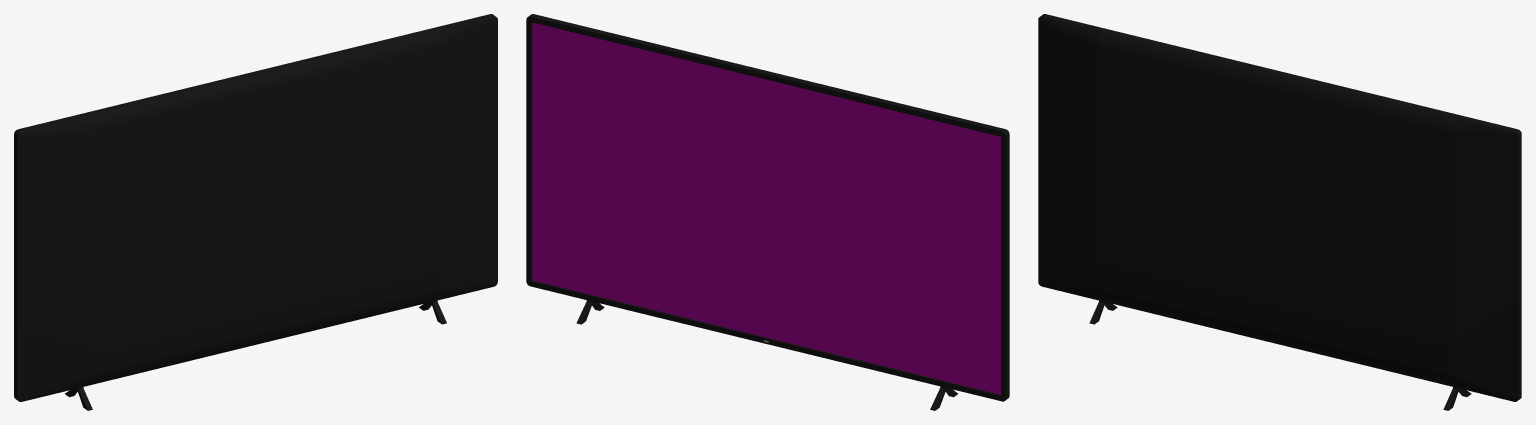
3 views of the same model, side by side, from view 1: azimuth 30°, elevation 25°; view 2: azimuth 150°, elevation 25°; view 3: azimuth 330°, elevation 25° (orthographic).
Visible parts, largest first — view 1: pPlane5; view 2: pPlane5; view 3: pPlane5.
Boxes of the visible parts, <box> form: pPlane5: <box>14,14,497,410</box>; pPlane5: <box>526,14,1009,410</box>; pPlane5: <box>1038,14,1521,410</box>.
Bounding box in the file's own units: 127 × 72.31 × 10.73.
